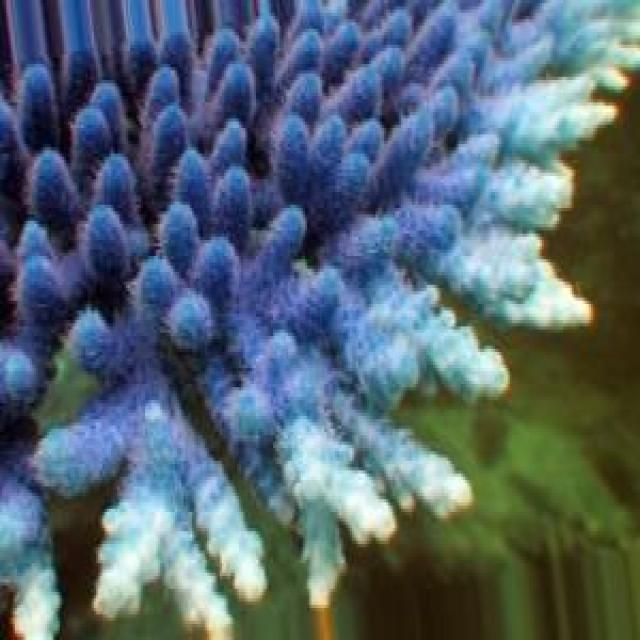Bleached: (491, 1, 640, 168), (280, 417, 396, 610), (99, 489, 234, 640), (444, 232, 594, 331), (354, 418, 474, 519), (197, 472, 269, 601), (1, 509, 71, 640), (429, 329, 510, 402), (490, 204, 567, 230)
Healthy: (1, 1, 445, 472)
